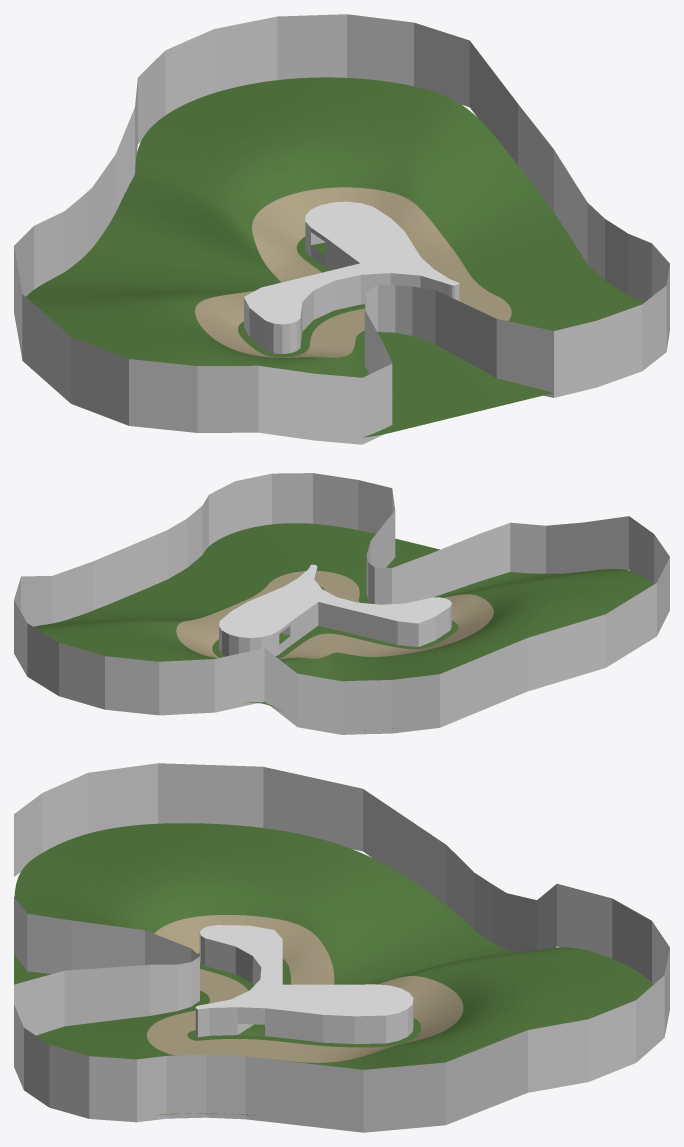
The model's file is track8.fbx.
3 renders of one model, top to bottom at view 1: azimuth 30°, elevation 25°; view 2: azimuth 150°, elevation 25°; view 3: azimuth 270°, elevation 25°, orthographic. The views are drawn at different scales.
Parts seen in each view (by area): view 1: Plane, Plane.002, Plane.001; view 2: Plane.002, Plane, Plane.001; view 3: Plane.002, Plane, Plane.001.
Boxes of the visible parts, x1=… form: Plane: x1=26, y1=77, x2=643, y2=437; Plane.002: x1=14, y1=14, x2=669, y2=444; Plane.001: x1=244, y1=201, x2=459, y2=353; Plane.002: x1=14, y1=473, x2=669, y2=734; Plane: x1=33, y1=523, x2=652, y2=730; Plane.001: x1=219, y1=564, x2=451, y2=656; Plane.002: x1=14, y1=763, x2=669, y2=1132; Plane: x1=14, y1=823, x2=653, y2=1116; Plane.001: x1=195, y1=925, x2=413, y2=1043.
Size of the model in its own units: 3029 by 535 by 3052.
